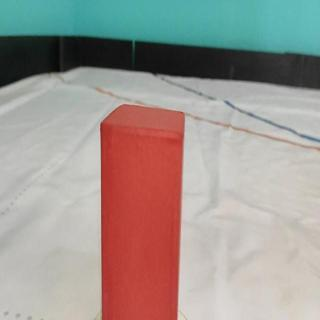redbox: (99, 102, 185, 320)
